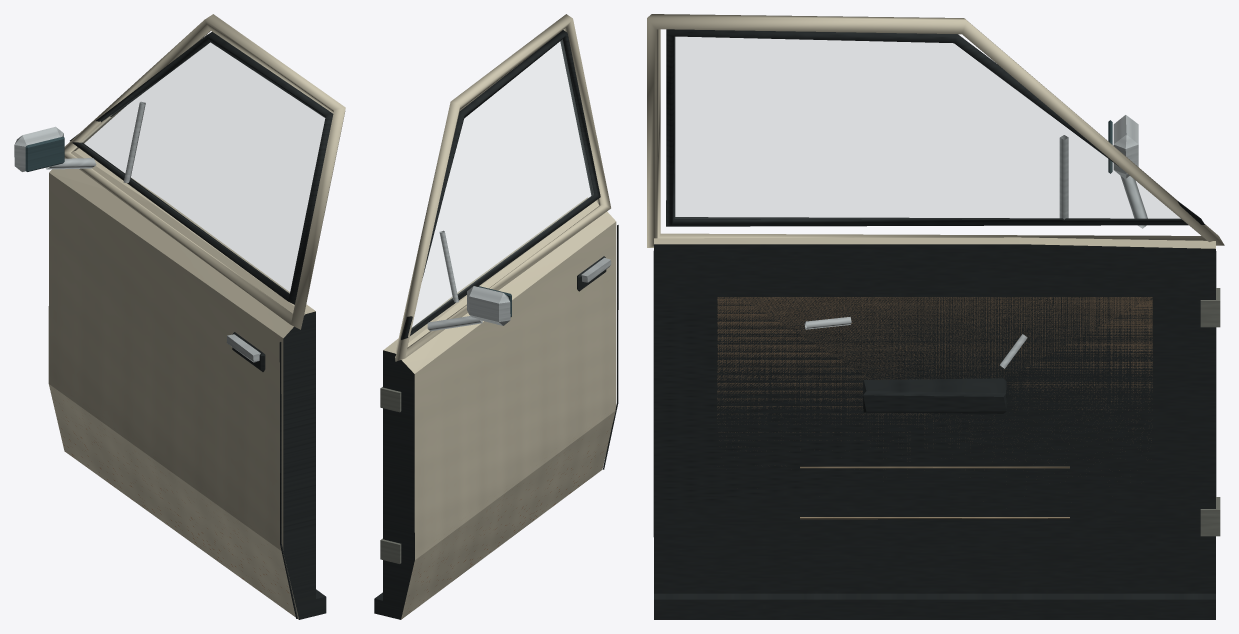
File: zastava_101_door_fl.glb
3 renders of one model, left to right at view 1: azimuth 30°, elevation 25°; view 2: azimuth 150°, elevation 25°; view 3: azimuth 270°, elevation 25°, orthographic. The views are drawn at different scales.
Visible parts, largest first — view 1: zastava_101_door_fl; view 2: zastava_101_door_fl; view 3: zastava_101_door_fl.
Boxes of the visible parts, <box> form: zastava_101_door_fl: <box>14,14,345,619</box>; zastava_101_door_fl: <box>374,14,618,619</box>; zastava_101_door_fl: <box>647,14,1224,619</box>.
Bounding box in the file's own units: 0.3421 × 1.2 × 1.03.
Materials: 4 (3 with a texture image).
